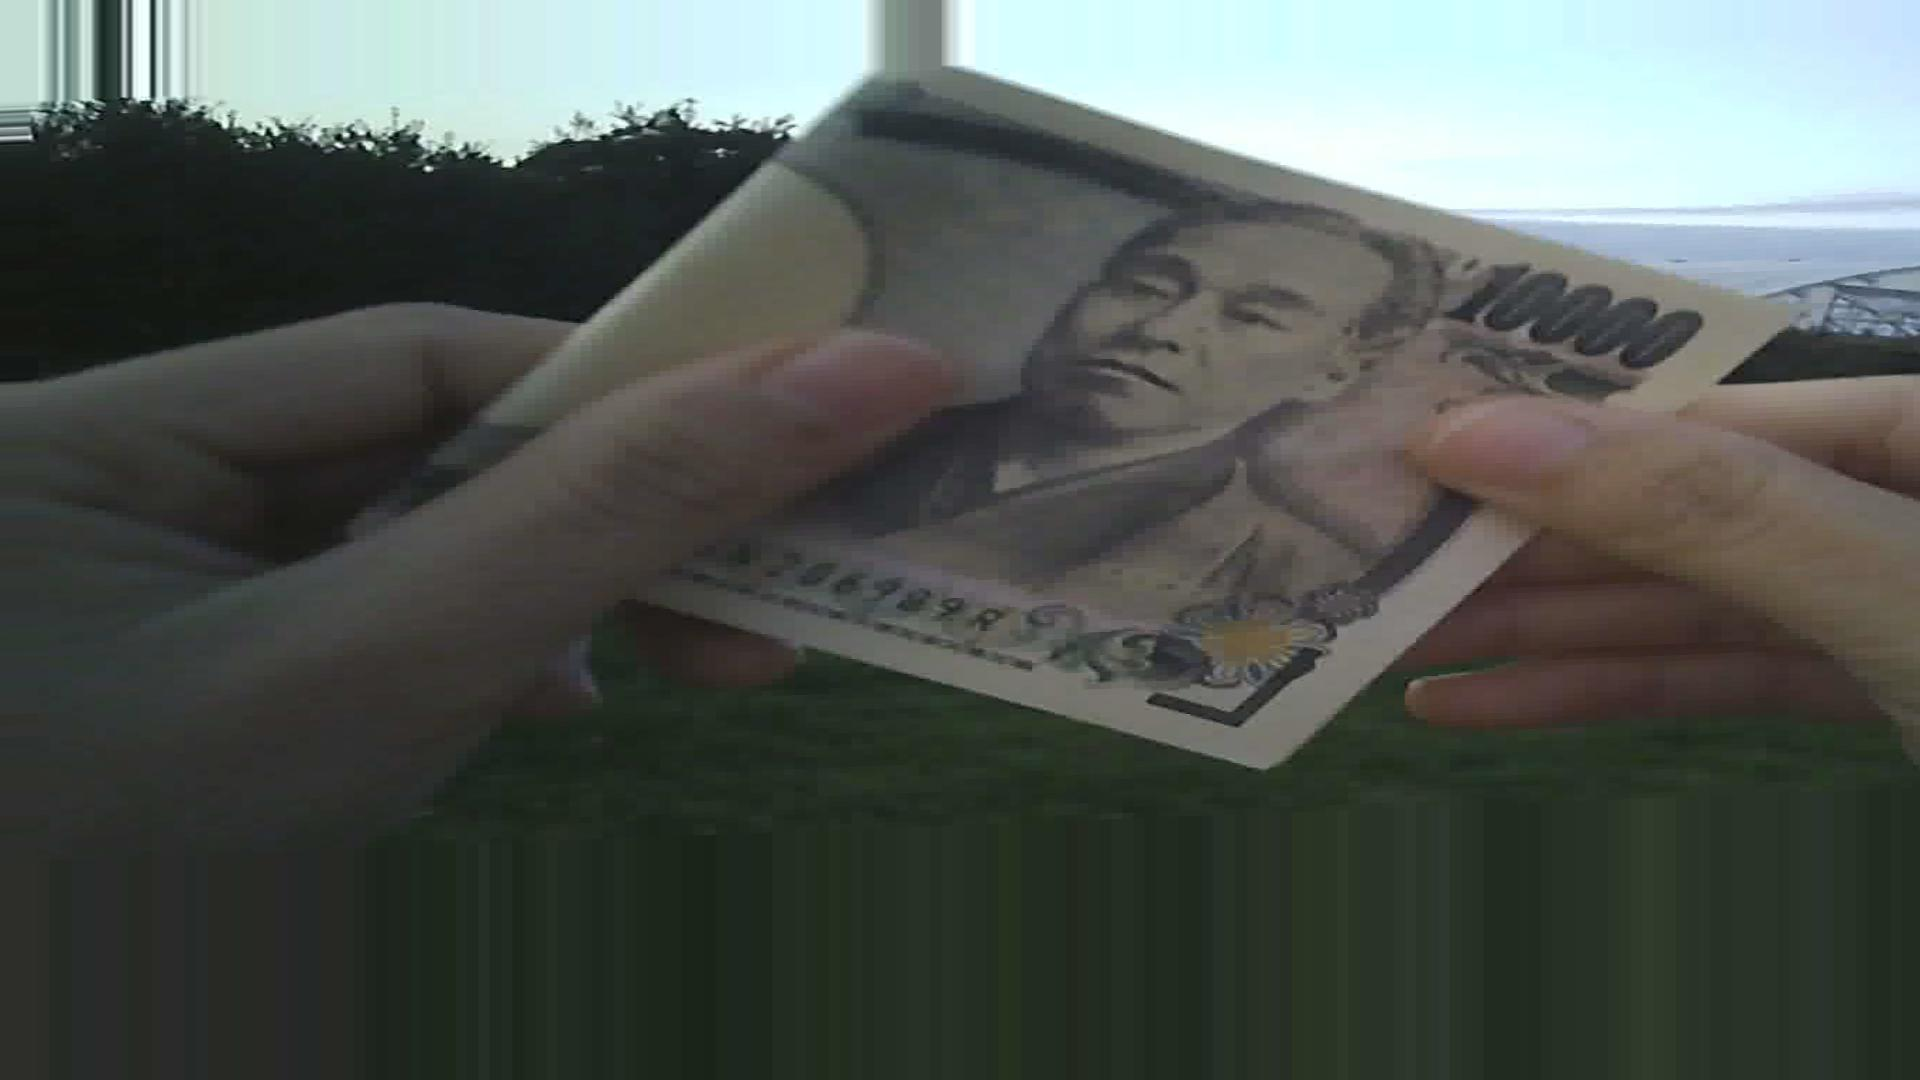10,000 Yen: (444, 37, 1725, 736)
